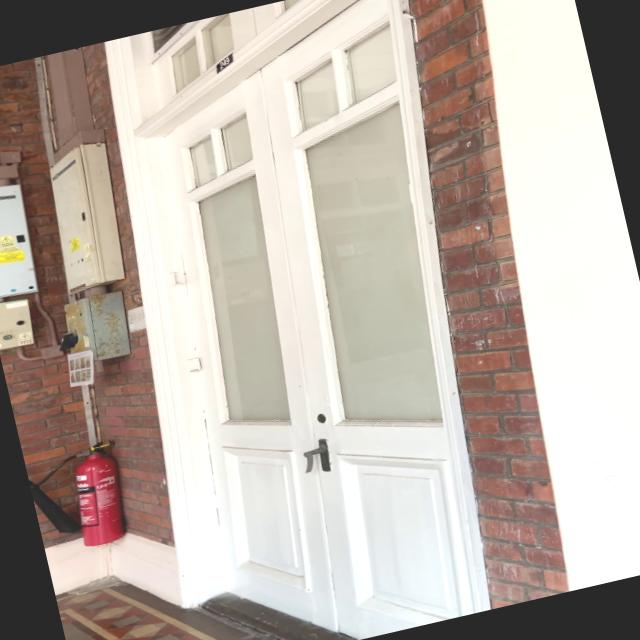room249: (206, 48, 239, 78)
